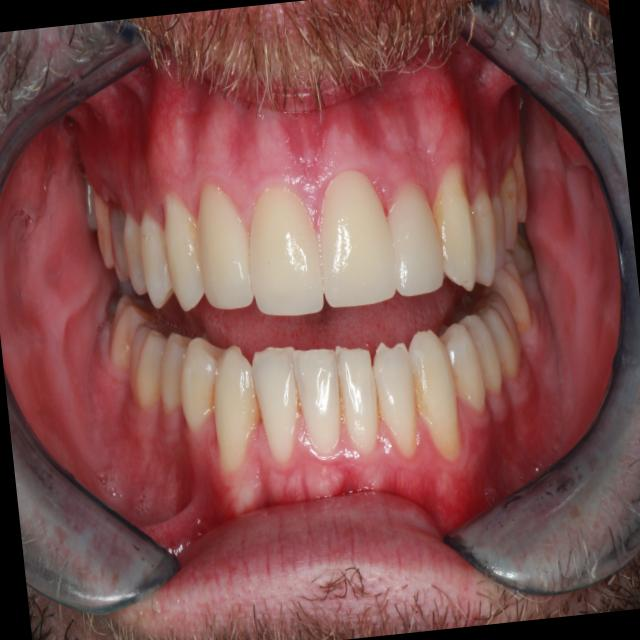tooth: (304, 152, 401, 314), (234, 172, 331, 325), (186, 170, 260, 319), (418, 152, 487, 296), (204, 333, 270, 476), (376, 173, 449, 301), (403, 322, 466, 469), (246, 333, 313, 471), (449, 279, 528, 389), (366, 331, 428, 466), (287, 335, 351, 465), (170, 327, 239, 434), (156, 184, 210, 318), (331, 332, 387, 460), (433, 316, 491, 419), (119, 315, 178, 415), (98, 284, 158, 375), (134, 199, 179, 314), (483, 245, 535, 340), (150, 325, 201, 420), (459, 307, 508, 405), (461, 178, 502, 294), (116, 203, 158, 300), (102, 192, 137, 287), (493, 158, 526, 257), (498, 211, 540, 278), (484, 185, 512, 273), (90, 184, 117, 272), (508, 134, 532, 226), (79, 165, 101, 234)
